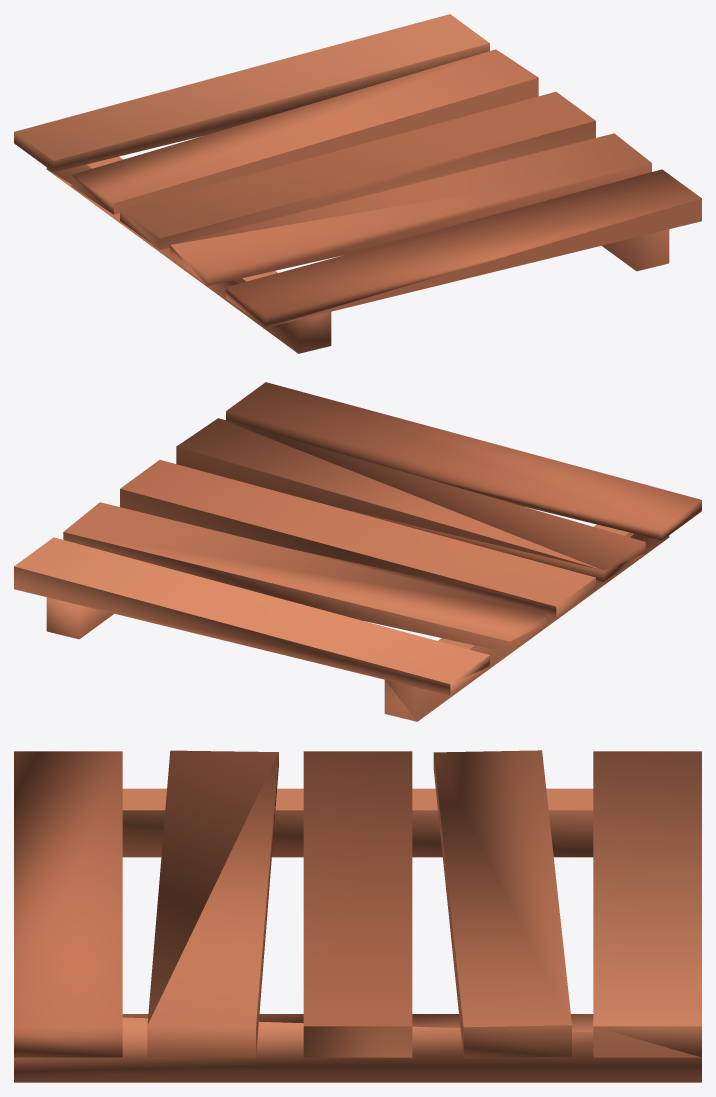
Rendered from template-floor-layer_lev2.glb.
The picture shows the model from 3 angles, top to bottom: view 1: azimuth 30°, elevation 25°; view 2: azimuth 150°, elevation 25°; view 3: azimuth 270°, elevation 25°; orthographic projection. The views are drawn at different scales.
Visible parts, largest first — view 1: template-floor-layer_lev2; view 2: template-floor-layer_lev2; view 3: template-floor-layer_lev2.
Part boxes in pixels (x1,y1,x2,y2): template-floor-layer_lev2: (14,14,701,353); template-floor-layer_lev2: (14,382,701,721); template-floor-layer_lev2: (14,750,701,1082).
Bounding box in the file's own units: 4.02 × 0.5 × 4.
1 material, 1 textured.
